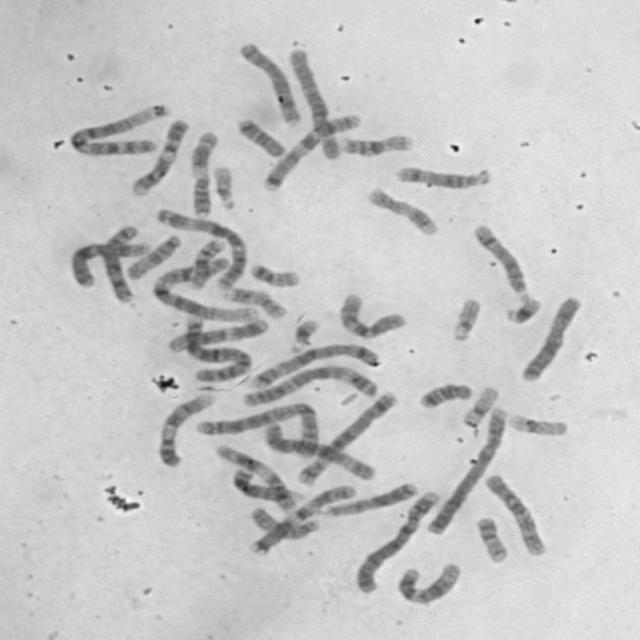A1: (148, 254, 262, 324), (64, 99, 170, 158)
A2: (193, 398, 325, 458), (179, 311, 254, 384)
A3: (150, 205, 252, 290), (237, 359, 380, 408)
B4: (422, 403, 510, 535), (350, 485, 442, 595)
B5: (294, 388, 401, 487), (244, 338, 381, 391)
C10: (480, 468, 549, 558), (333, 287, 409, 340)
C11: (211, 441, 300, 512), (186, 126, 221, 218)
C12: (162, 315, 270, 354), (393, 558, 463, 606)
C6: (258, 418, 378, 481), (284, 42, 344, 162)
C7: (260, 109, 366, 193), (246, 479, 360, 556)
C8: (233, 37, 304, 127), (97, 220, 141, 304)
C9: (126, 114, 192, 197), (154, 388, 218, 468)
D13: (321, 477, 420, 519), (228, 464, 305, 510)
D14: (469, 219, 533, 299), (390, 161, 494, 190)
D15: (122, 230, 184, 281), (245, 502, 322, 542)
E16: (181, 233, 226, 291), (335, 129, 416, 158)
E17: (363, 182, 441, 237), (217, 282, 288, 319)
E18: (232, 113, 289, 158), (414, 377, 476, 411)
F19: (458, 382, 501, 428), (504, 409, 570, 438)
F20: (471, 512, 512, 564), (245, 258, 302, 289)
G21: (285, 313, 322, 353), (501, 293, 544, 326)
G22: (446, 294, 485, 344), (208, 160, 239, 212)
X: (516, 292, 584, 384), (66, 236, 152, 289)
